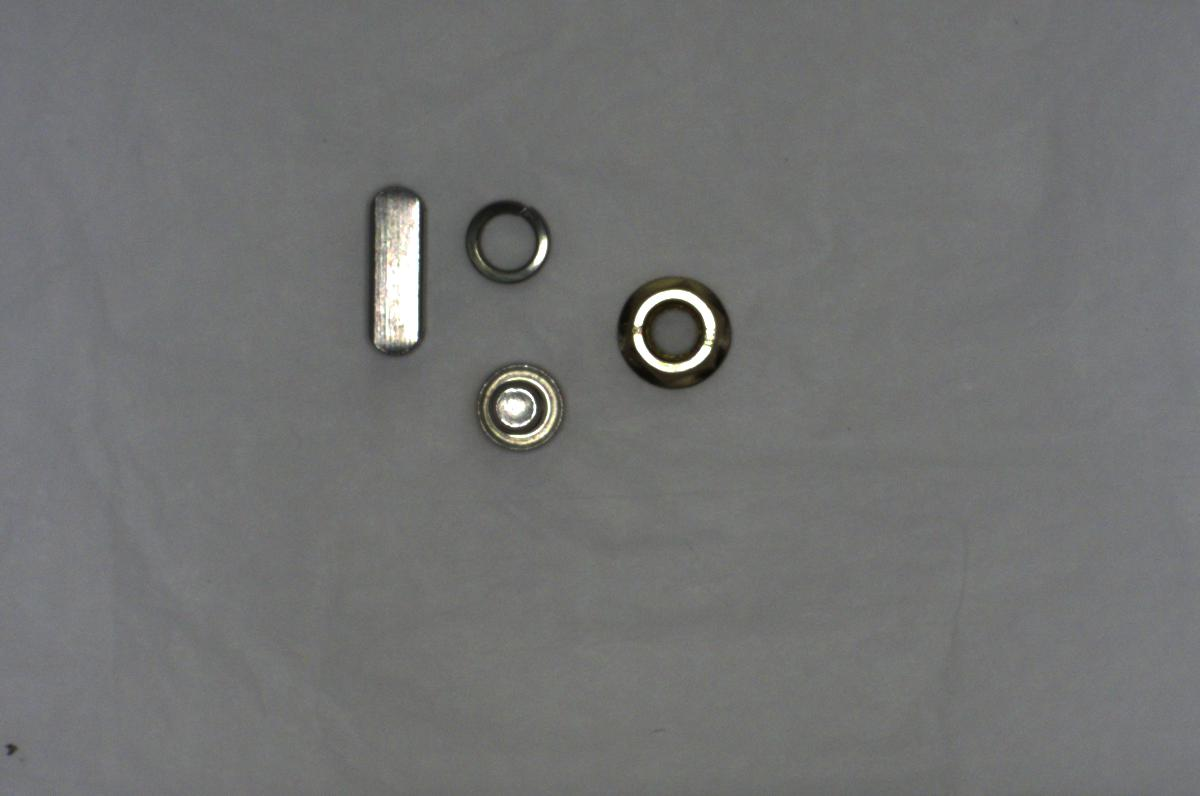Flange nut: (604, 269, 739, 394)
Hexagon screw: (466, 358, 571, 459)
Keybar: (354, 178, 435, 355)
Spring washer: (464, 193, 558, 285)
